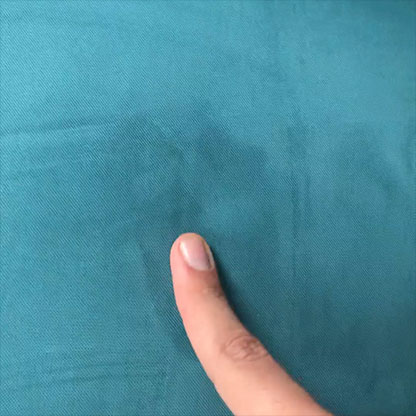fingertip: (167, 216, 231, 284)
